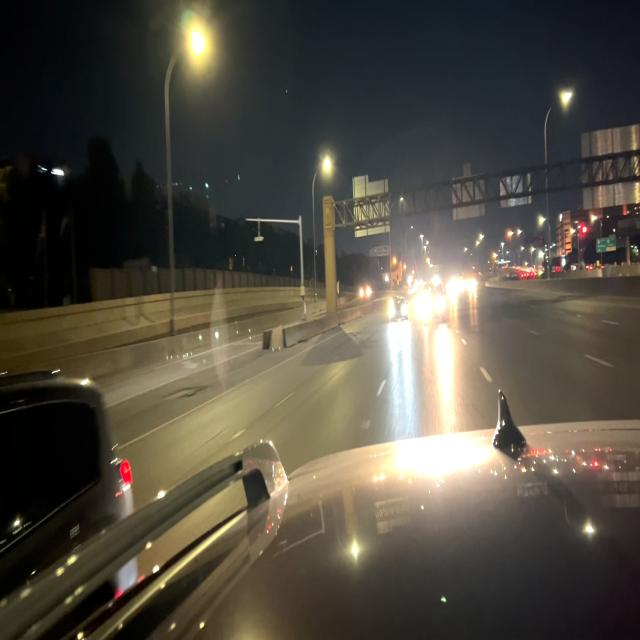back-of-sign: (579, 122, 640, 212), (352, 172, 391, 240), (450, 161, 486, 224), (499, 166, 533, 210)
